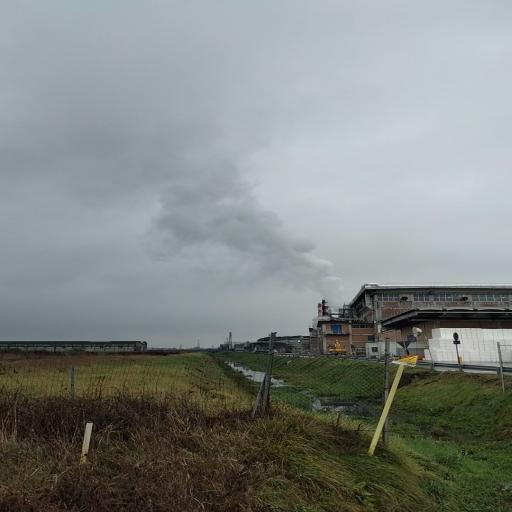leakage: (29, 104, 362, 330)
